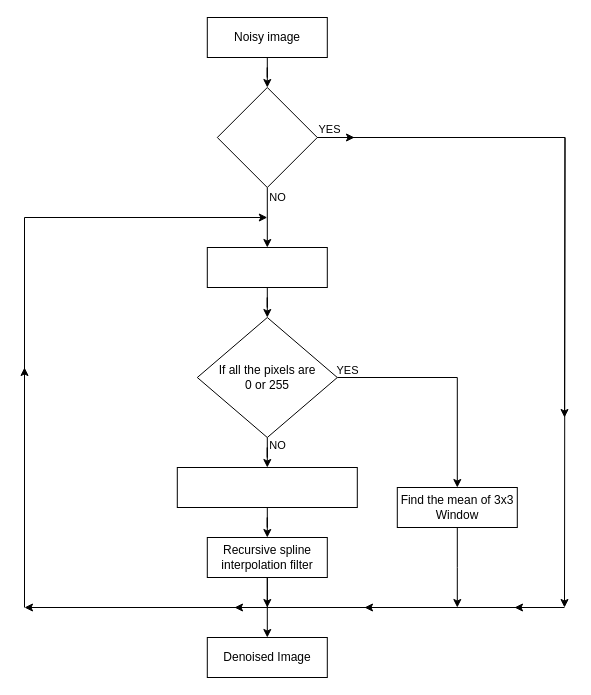
Some shapes in this 591 by 695 pixel diagram are drawn without their labels. Here are the shapes that lost their labels. From the top down, the centre of each, then its label:
the point at 266,137: 0 < P ij < 255
the point at 266,267: Select a 3x3 Window
the point at 266,487: Remove all 0's and 255's in a selected window
